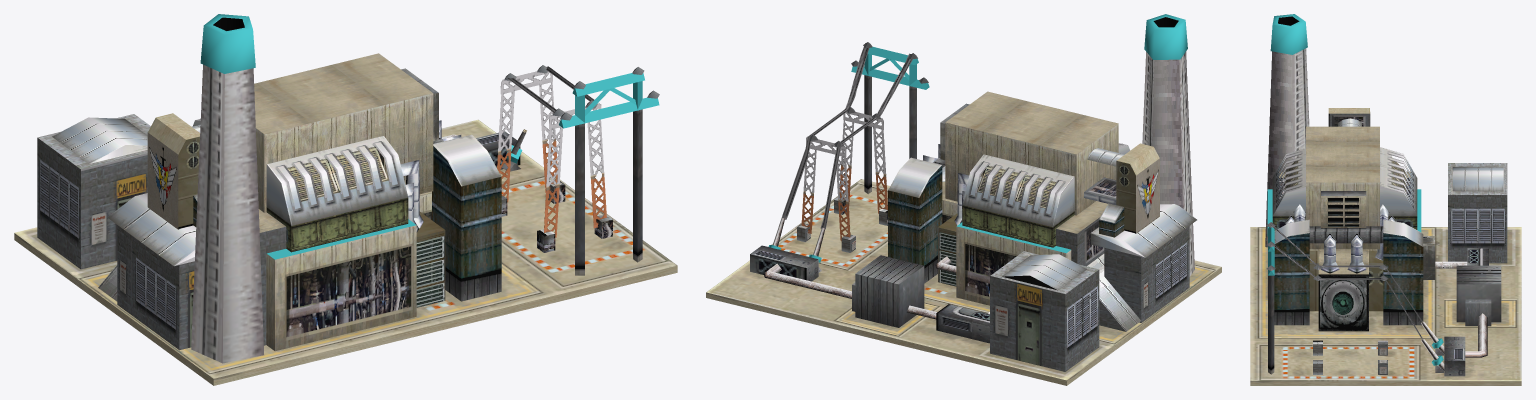
File: power_plant.glb
3 views of the same model, side by side, from view 1: azimuth 30°, elevation 25°; view 2: azimuth 150°, elevation 25°; view 3: azimuth 270°, elevation 25° (orthographic). The views are drawn at different scales.
Visible parts, largest first — view 1: BUILDING (×3), GENERATOR COVER, HOUSECOLOR01, CYLINDER02; view 2: BUILDING (×6), GENERATOR COVER, HOUSECOLOR01, WIRES, CYLINDER01; view 3: BUILDING (×5), GENERATOR COVER, HOUSECOLOR01, WIRES.
Boxes of the visible parts, x1,y1,x2,y2 form: BUILDING (×3): (14,17,677,385); GENERATOR COVER: (195,68,606,252); HOUSECOLOR01: (200,14,659,259); CYLINDER02: (287,147,388,201); BUILDING (×6): (706,17,1221,385); GENERATOR COVER: (801,112,1127,247); HOUSECOLOR01: (768,14,1187,262); WIRES: (781,43,912,229); CYLINDER01: (977,166,1056,208); BUILDING (×5): (1250,16,1521,385); GENERATOR COVER: (1272,147,1417,215); HOUSECOLOR01: (1267,14,1443,365); WIRES: (1270,225,1422,339).
Bounding box in the file's own units: 61.95 × 41.83 × 45.7.
12 materials, 11 textured.
